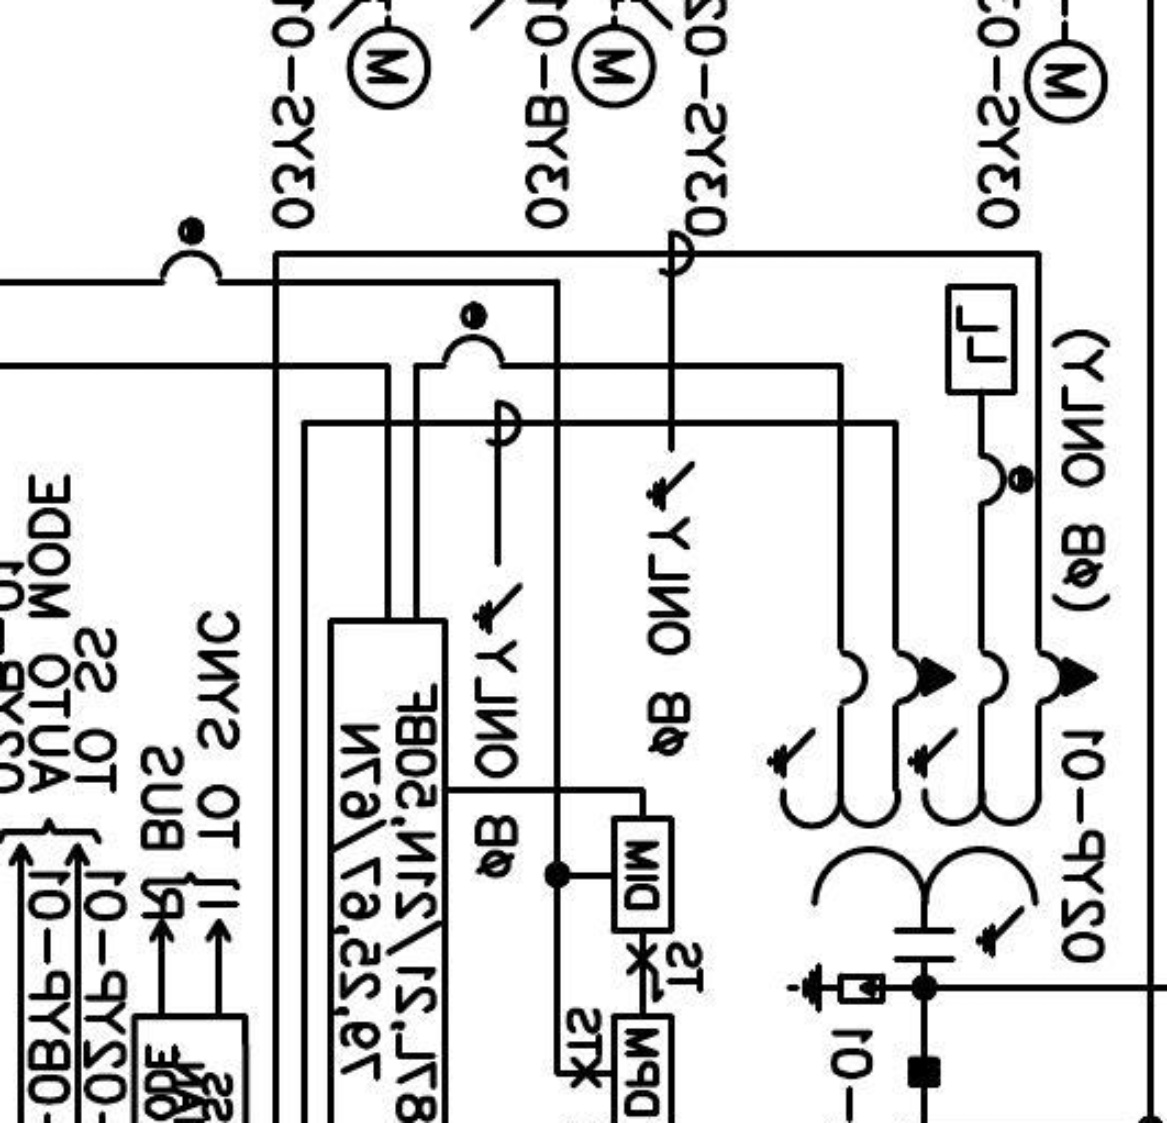115_cvt_1p: (764, 644, 1100, 964)
115_la: (785, 962, 887, 1014)
DIM: (610, 815, 675, 935)
LL: (944, 283, 1018, 396)
